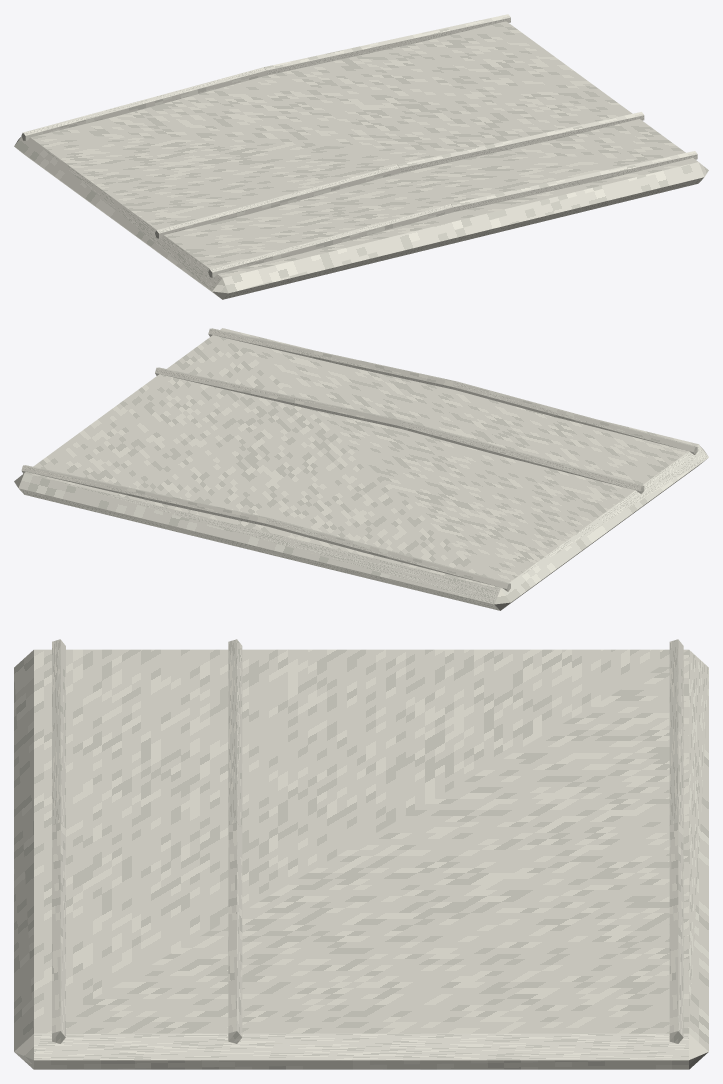
The model's file is nylon.glb.
3 renders of one model, top to bottom at view 1: azimuth 30°, elevation 25°; view 2: azimuth 150°, elevation 25°; view 3: azimuth 270°, elevation 25°, orthographic. The views are drawn at different scales.
Visible parts, largest first — view 1: block_folded fiber or fabric, block_textile edge 0 (×3), block_textile edge 1 (×3); view 2: block_folded fiber or fabric, block_textile edge 0 (×3), block_textile edge 1 (×3); view 3: block_folded fiber or fabric, block_textile edge 1 (×3), block_textile edge 0 (×3).
Boxes of the visible parts, x1=… form: block_folded fiber or fabric: x1=14, y1=21, x2=708, y2=299; block_textile edge 0 (×3): x1=21, y1=67, x2=453, y2=277; block_textile edge 1 (×3): x1=264, y1=14, x2=697, y2=212; block_folded fiber or fabric: x1=14, y1=328, x2=708, y2=610; block_textile edge 0 (×3): x1=266, y1=381, x2=697, y2=591; block_textile edge 1 (×3): x1=21, y1=328, x2=455, y2=526; block_folded fiber or fabric: x1=14, y1=649, x2=708, y2=1069; block_textile edge 1 (×3): x1=52, y1=823, x2=683, y2=1043; block_textile edge 0 (×3): x1=52, y1=639, x2=683, y2=828.
Size of the model in its own units: 0.1524 by 0.00951 by 0.1116.
Materials: 1 (1 with a texture image).
